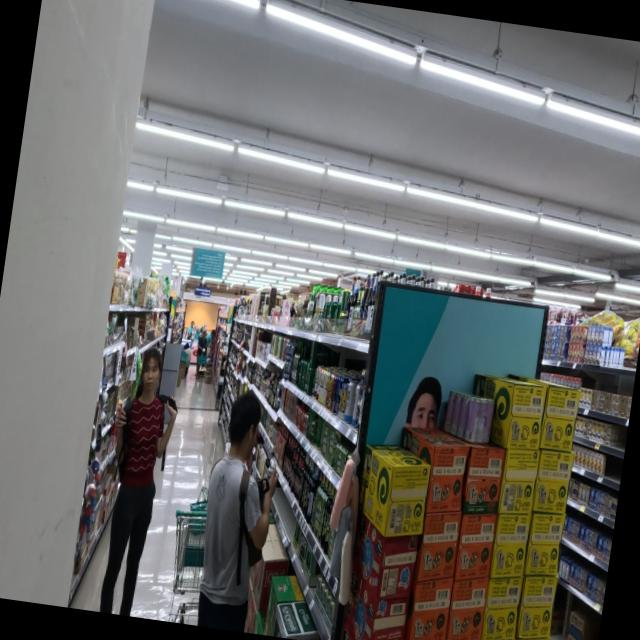shoplifting: (190, 382, 290, 634)
